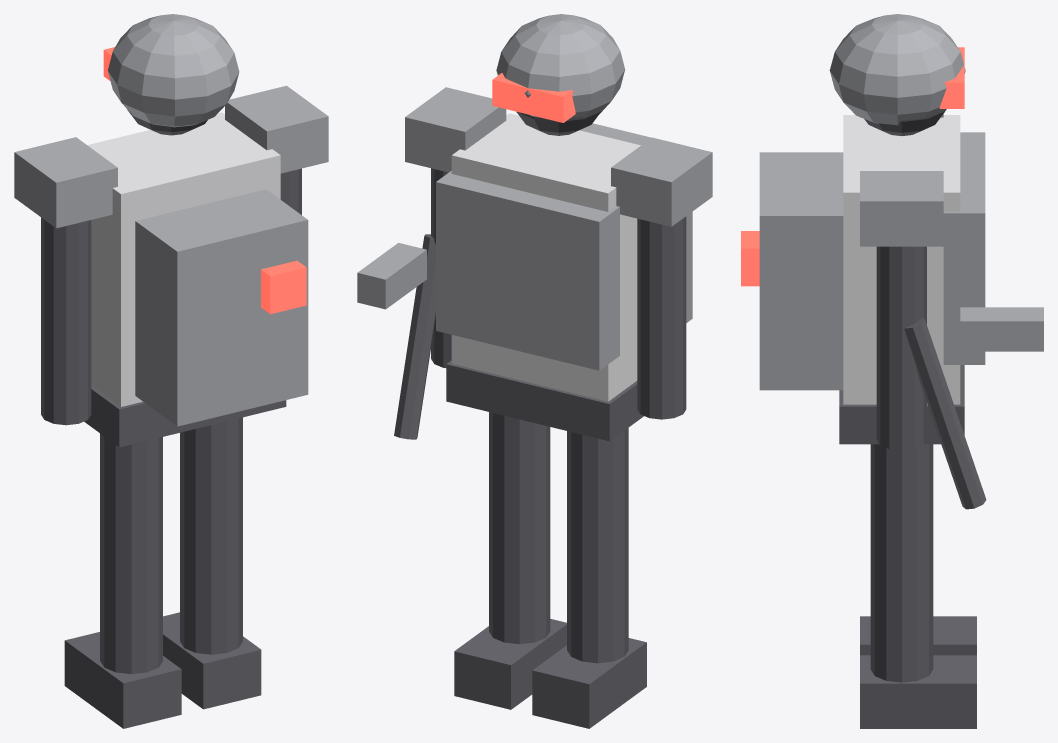
Rendered from jp_worker.glb.
3 views of the same model, side by side, from view 1: azimuth 30°, elevation 25°; view 2: azimuth 150°, elevation 25°; view 3: azimuth 270°, elevation 25° (orthographic). The views are drawn at different scales.
Visible parts, largest first — view 1: Worker_Pack, Worker_Torso, Worker_LegL, Worker_LegR, Worker_Helmet, Worker_ArmL, Worker_PadL, Worker_BootL, Worker_PadR, Worker_BootR, Worker_Belt, Worker_PackLight (+2 smaller); view 2: Worker_Chest, Worker_Torso, Worker_LegL, Worker_LegR, Worker_ArmL, Worker_Helmet, Worker_Belt, Worker_PadL, Worker_BootL, Worker_BootR, Worker_PadR, Worker_ToolHandle (+5 smaller); view 3: Worker_Pack, Worker_Torso, Worker_LegR, Worker_Helmet, Worker_ArmR, Worker_Chest, Worker_BootR, Worker_PadR, Worker_ToolHandle, Worker_ToolHead, Worker_Belt, Worker_BootL (+3 smaller).
Boxes of the visible parts, bbox=[...] form: Worker_Pack: bbox=[135, 189, 308, 426]; Worker_Torso: bbox=[87, 112, 280, 406]; Worker_LegL: bbox=[100, 433, 162, 674]; Worker_LegR: bbox=[180, 417, 242, 654]; Worker_Helmet: bbox=[108, 14, 239, 127]; Worker_ArmL: bbox=[41, 217, 91, 425]; Worker_PadL: bbox=[14, 137, 117, 228]; Worker_BootL: bbox=[64, 632, 181, 728]; Worker_PadR: bbox=[225, 85, 328, 173]; Worker_BootR: bbox=[163, 612, 261, 709]; Worker_Belt: bbox=[84, 385, 286, 447]; Worker_PackLight: bbox=[261, 260, 306, 314]; Worker_Chest: bbox=[436, 171, 619, 370]; Worker_Torso: bbox=[451, 113, 640, 401]; Worker_LegL: bbox=[567, 428, 628, 663]; Worker_LegR: bbox=[489, 412, 550, 644]; Worker_ArmL: bbox=[637, 216, 686, 419]; Worker_Helmet: bbox=[496, 14, 625, 118]; Worker_Belt: bbox=[446, 360, 643, 441]; Worker_PadL: bbox=[611, 137, 712, 226]; Worker_BootL: bbox=[532, 638, 646, 728]; Worker_BootR: bbox=[454, 619, 566, 709]; Worker_PadR: bbox=[405, 87, 506, 172]; Worker_ToolHandle: bbox=[394, 234, 435, 439]; Worker_Pack: bbox=[759, 152, 843, 390]; Worker_Torso: bbox=[843, 115, 960, 404]; Worker_LegR: bbox=[870, 444, 933, 682]; Worker_Helmet: bbox=[829, 14, 965, 125]; Worker_ArmR: bbox=[876, 246, 926, 450]; Worker_Chest: bbox=[943, 132, 985, 364]; Worker_BootR: bbox=[860, 655, 976, 728]; Worker_PadR: bbox=[860, 171, 943, 246]; Worker_ToolHandle: bbox=[904, 318, 986, 509]; Worker_ToolHead: bbox=[960, 307, 1043, 351]; Worker_Belt: bbox=[839, 365, 964, 444]; Worker_BootL: bbox=[860, 616, 976, 655].
Bounding box in the file's own units: 0.75 × 1.78 × 0.725.
